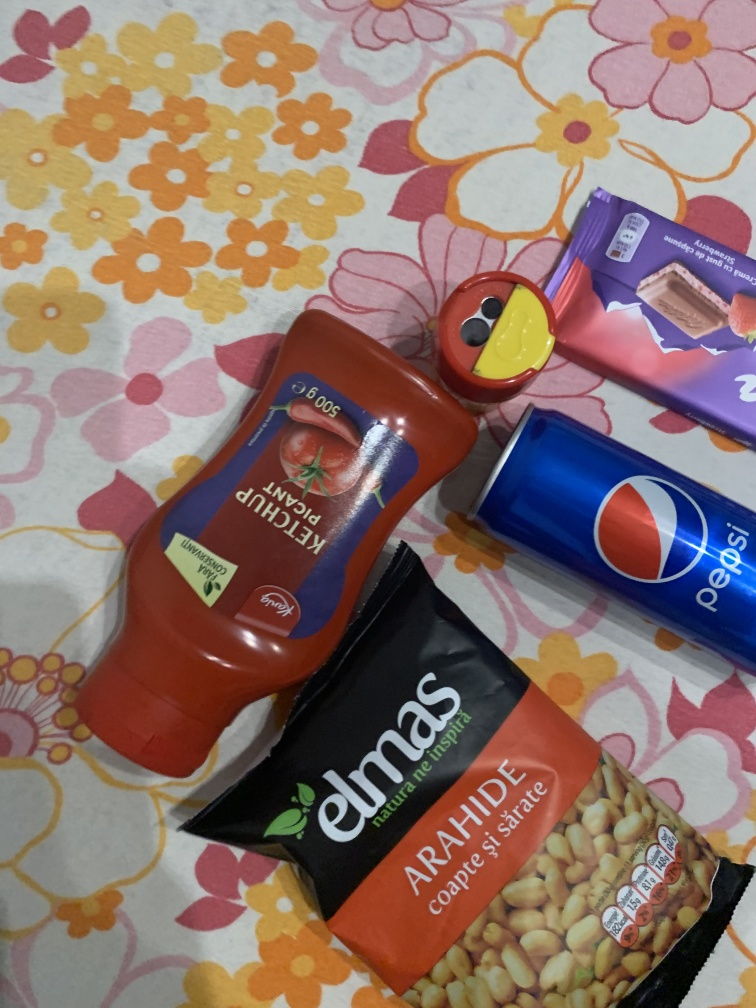ketchup: (67, 297, 484, 794)
milka: (529, 180, 756, 454)
peanuts: (189, 543, 755, 1001)
pepsi: (457, 397, 756, 681)
